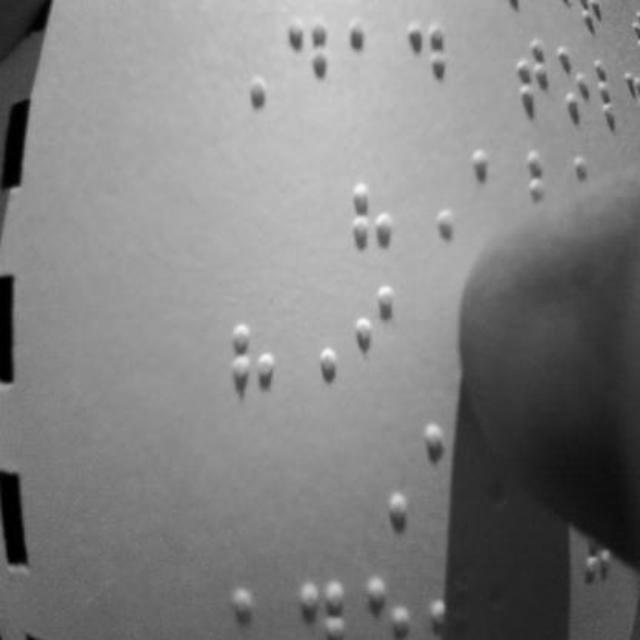braiile: (344, 178, 400, 282), (228, 319, 282, 423), (284, 13, 332, 117), (343, 16, 395, 112), (403, 12, 452, 112)
